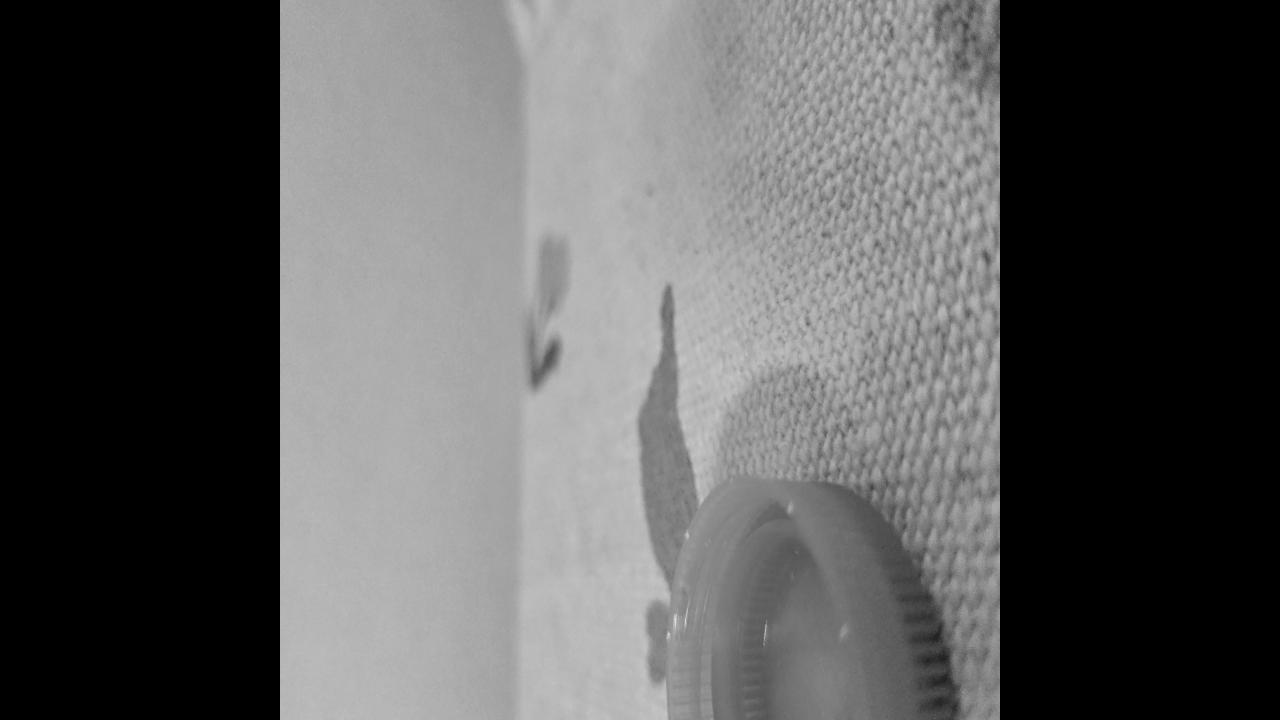bottle_cap: (661, 459, 954, 720)
